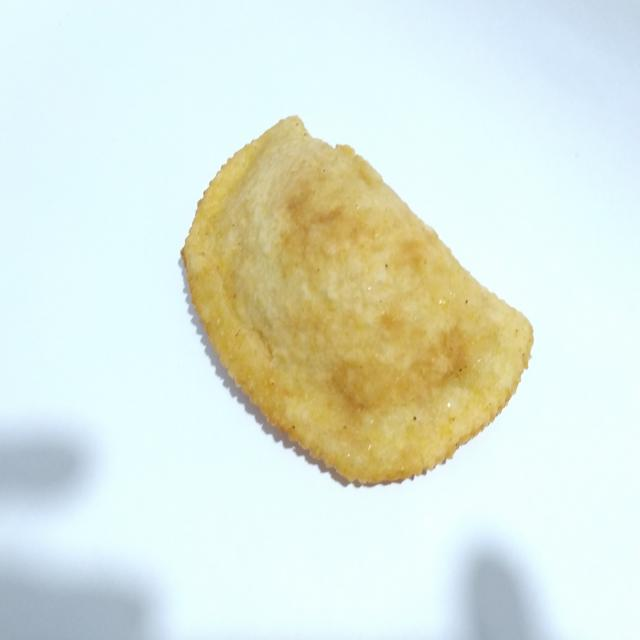Food: (175, 111, 540, 497)
